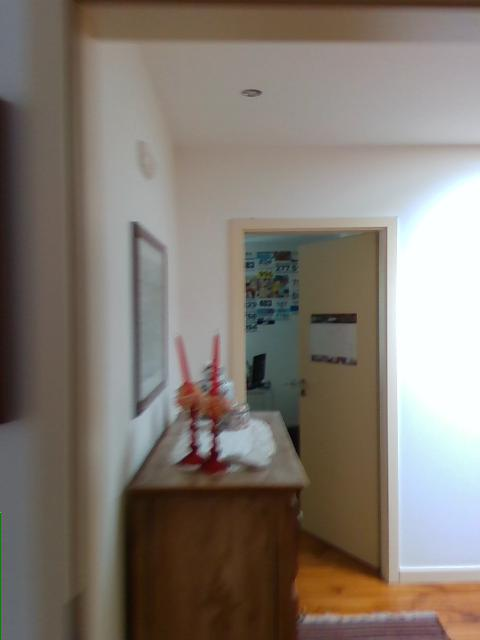semi_door: (225, 212, 397, 582)
